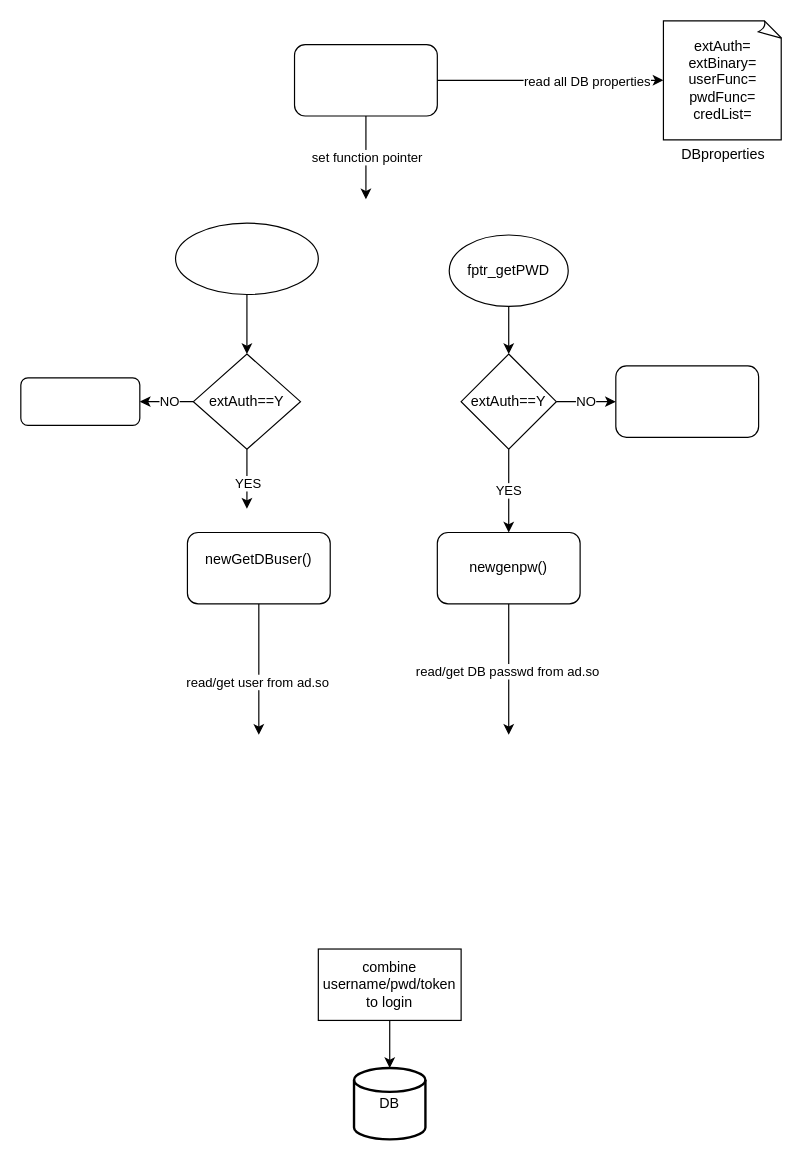
The diagram is 803 pixels wide and 1161 high, and some of its shapes have lost their labels. The centre of each missing label's shape, as x and y in pixels:
"connect_oracle" goes at point 365,79.
"fptr_getUser" goes at point 246,258.
"genpw()" goes at point 687,401.
"GetDBuser()" goes at point 80,401.
